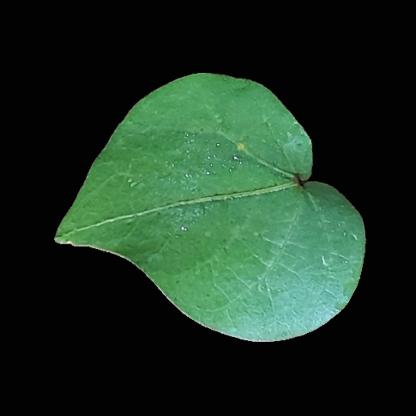healthy: (151, 97, 279, 252), (259, 213, 313, 333), (163, 255, 257, 307), (88, 172, 149, 240)
